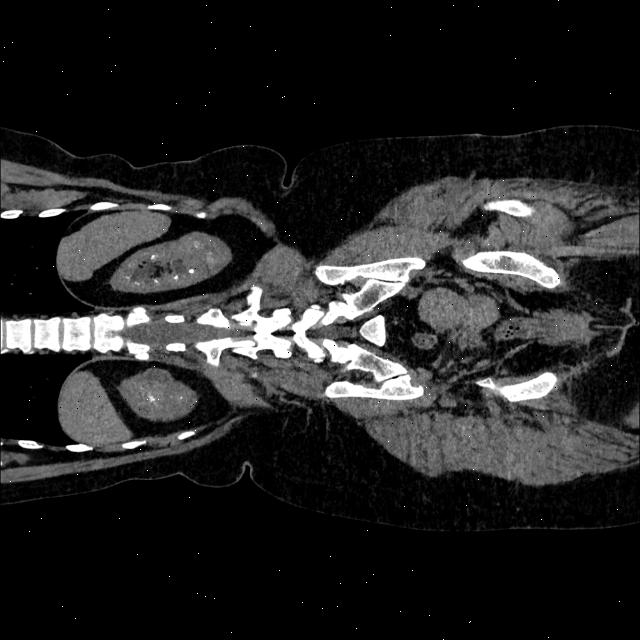kidneystone: (148, 394, 156, 402), (148, 254, 156, 261), (176, 395, 184, 401), (151, 276, 159, 282), (173, 274, 179, 280), (188, 268, 194, 272)
